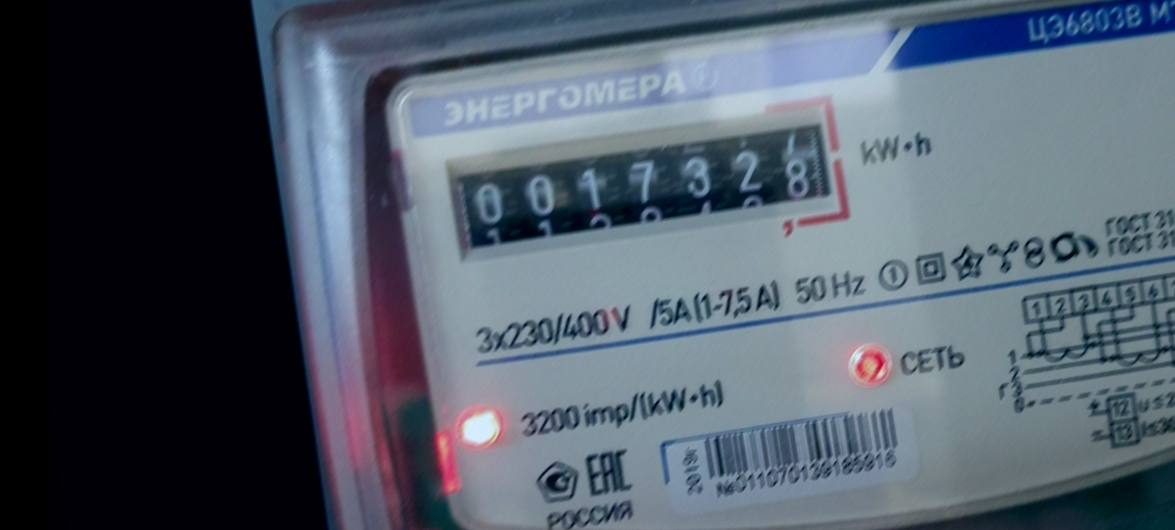0: (471, 180, 509, 228), (524, 170, 559, 219)
1: (578, 164, 606, 213)
2: (730, 147, 765, 196)
3: (681, 153, 714, 200)
7: (628, 158, 661, 207)
8: (781, 156, 812, 201)
screen: (435, 96, 859, 282)
